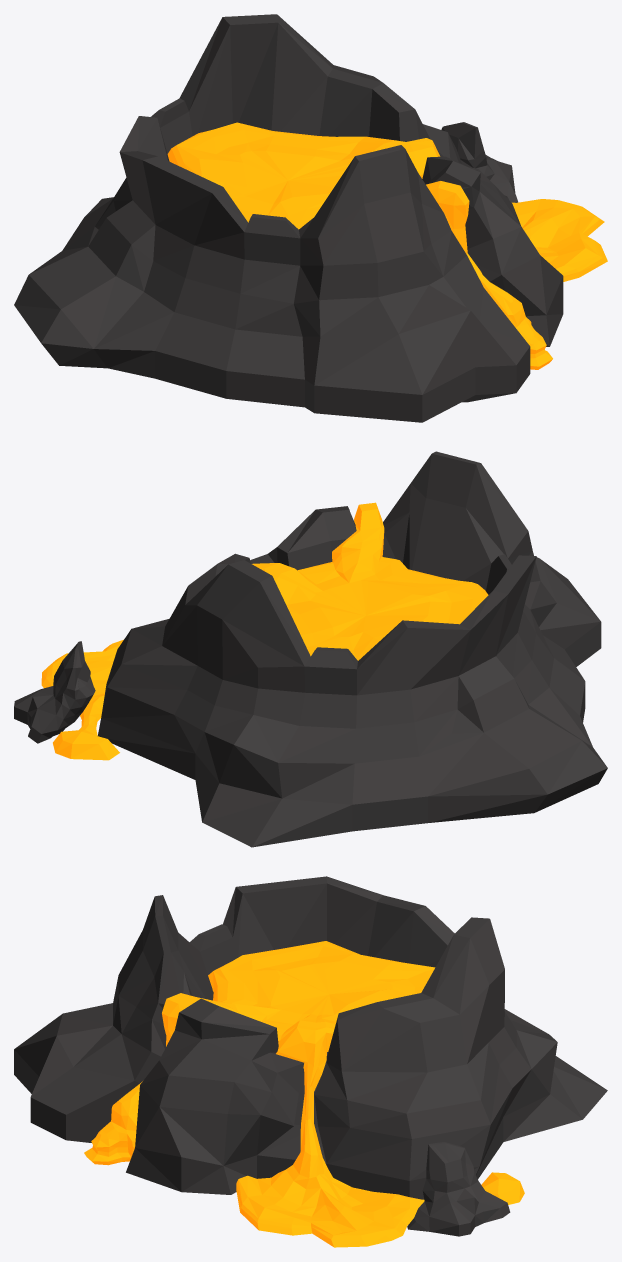
The model's file is F_MagmaPool.fbx.
3 renders of one model, top to bottom at view 1: azimuth 30°, elevation 25°; view 2: azimuth 150°, elevation 25°; view 3: azimuth 270°, elevation 25°, orthographic. The views are drawn at different scales.
Visible parts, largest first — view 1: polySurface1, polySurface2, polySurface3; view 2: polySurface1, polySurface2, polySurface3; view 3: polySurface1, polySurface2, polySurface3.
Boxes of the visible parts, x1=… form: polySurface1: x1=14, y1=14, x2=563, y2=422; polySurface2: x1=167, y1=122, x2=607, y2=369; polySurface3: x1=441, y1=122, x2=518, y2=202; polySurface1: x1=98, y1=451, x2=607, y2=847; polySurface2: x1=41, y1=502, x2=488, y2=760; polySurface3: x1=14, y1=641, x2=95, y2=743; polySurface1: x1=14, y1=876, x2=607, y2=1199; polySurface2: x1=84, y1=941, x2=524, y2=1247; polySurface3: x1=407, y1=1142, x2=510, y2=1236.
Bounding box in the file's own units: 9.17 × 3.41 × 9.07.
